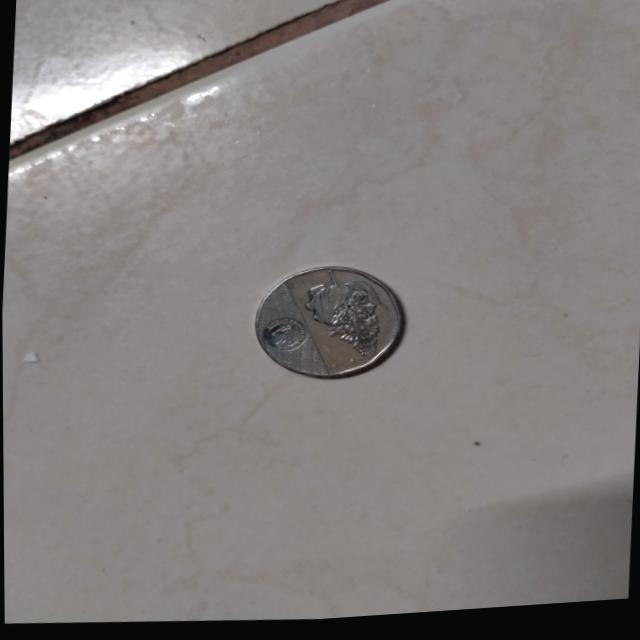10_New_Back: (258, 275, 389, 374)
